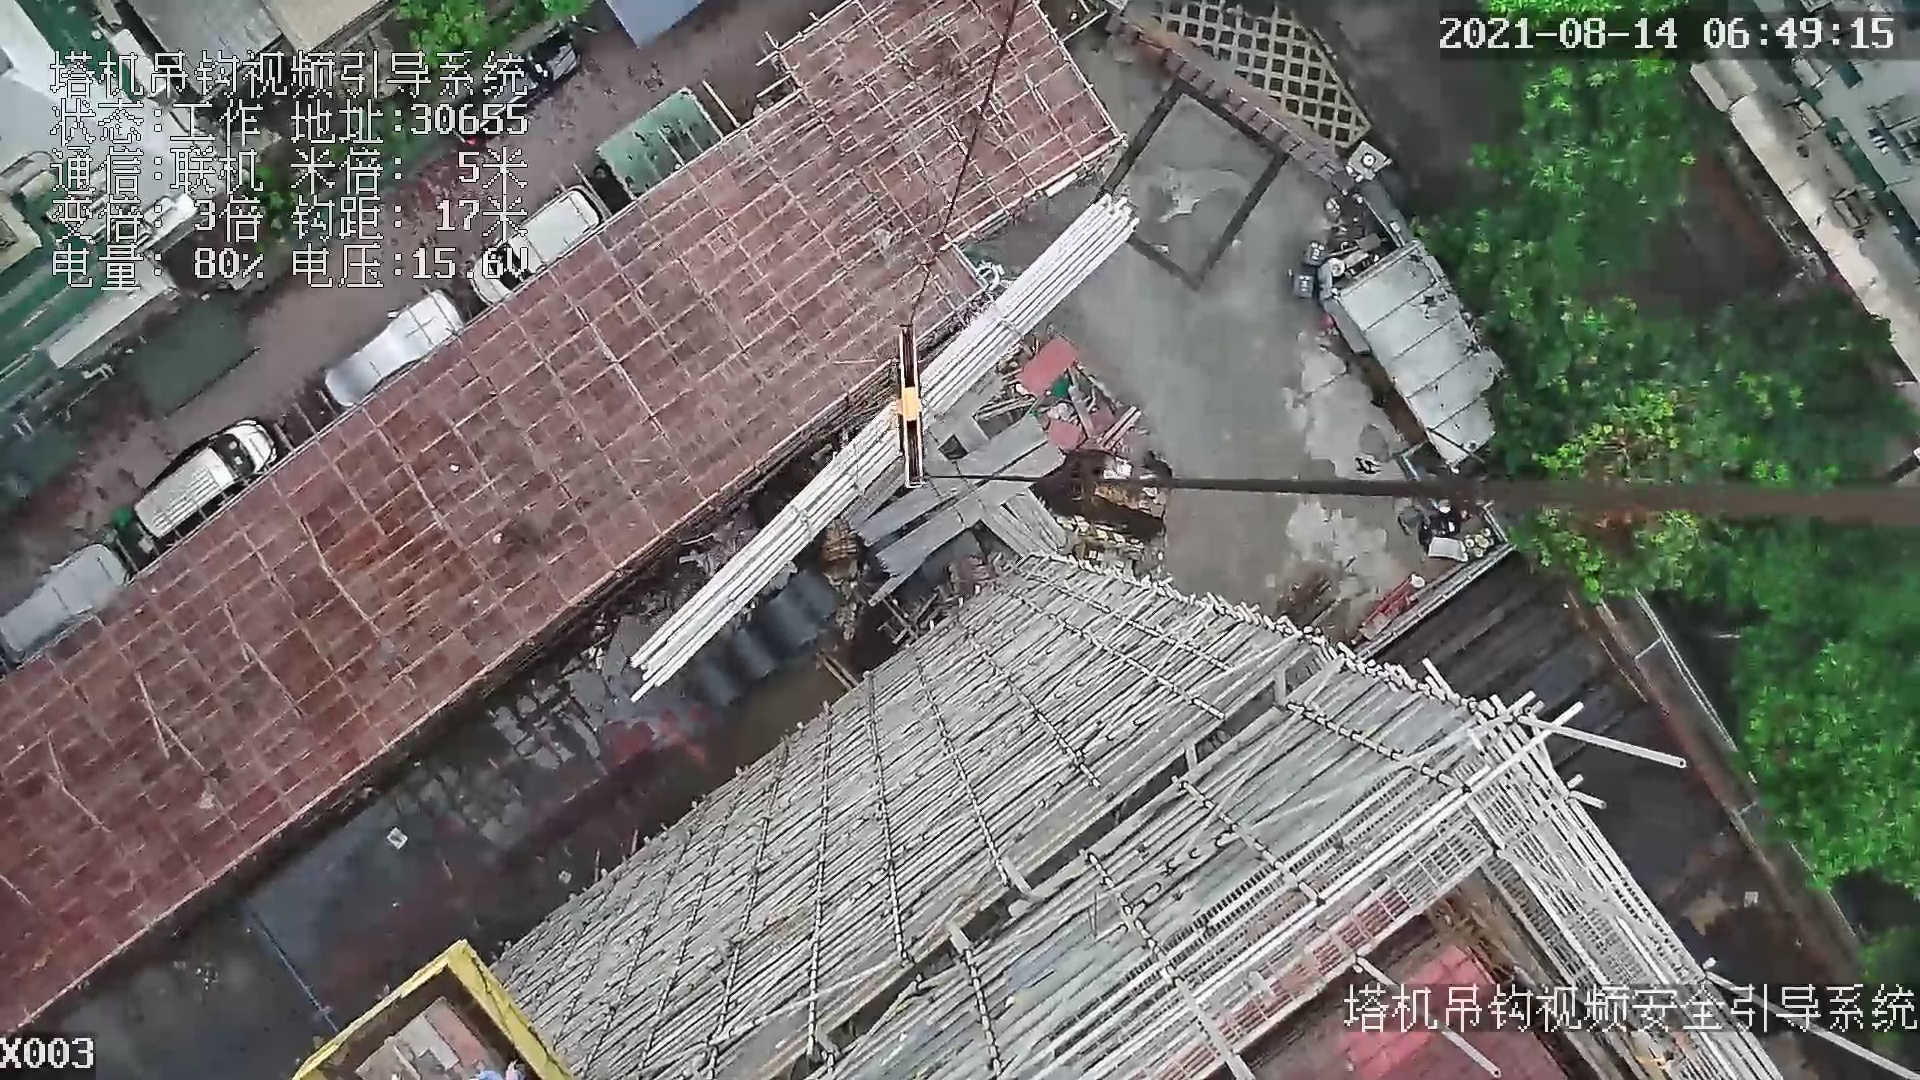hook: (895, 327, 936, 495)
